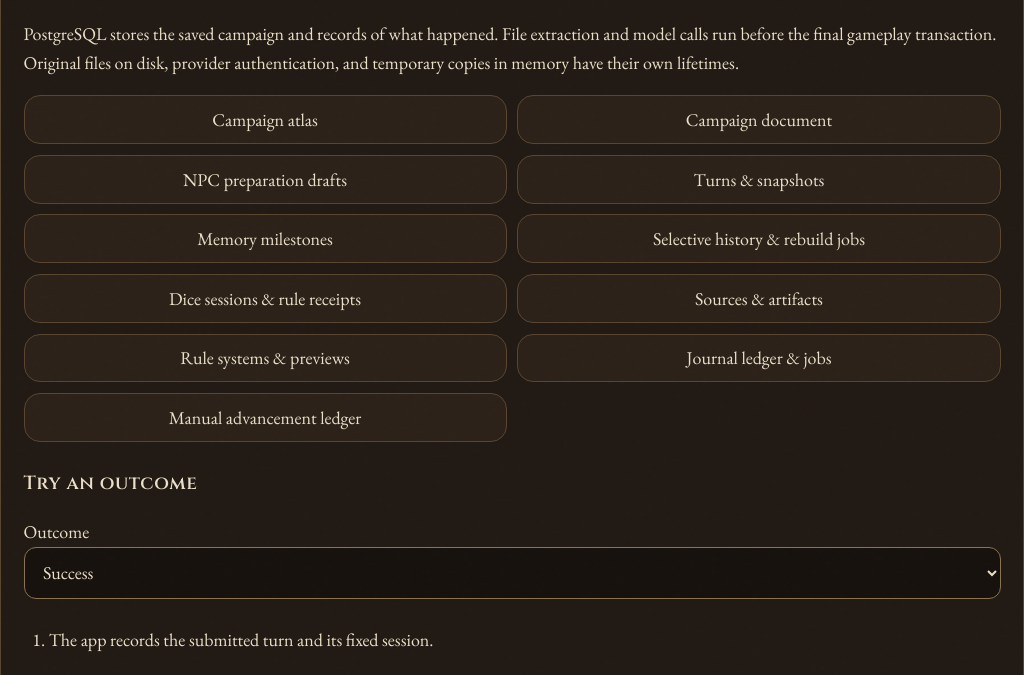
distinguishes surviving audit from state changes and models an undo conflict
Select "Invalid response" in the dropdown labelled "Outcome": (512, 573) [24,547,1000,599]
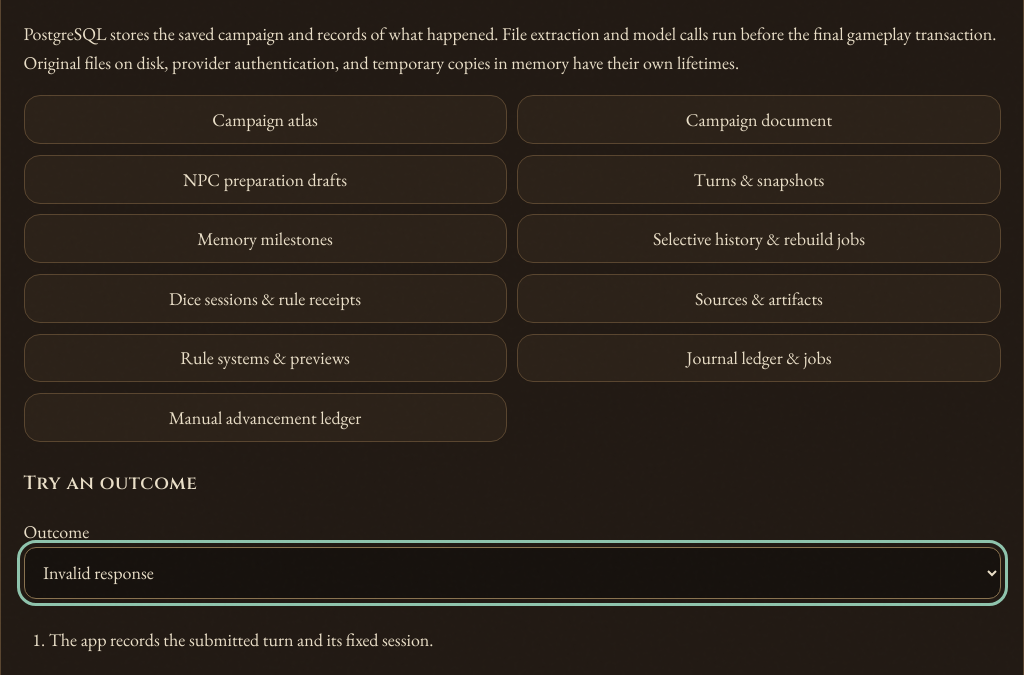
Select "Undo the completed turn" in the dropdown labelled "Outcome": (512, 573) [24,547,1000,599]
(page scrolled)
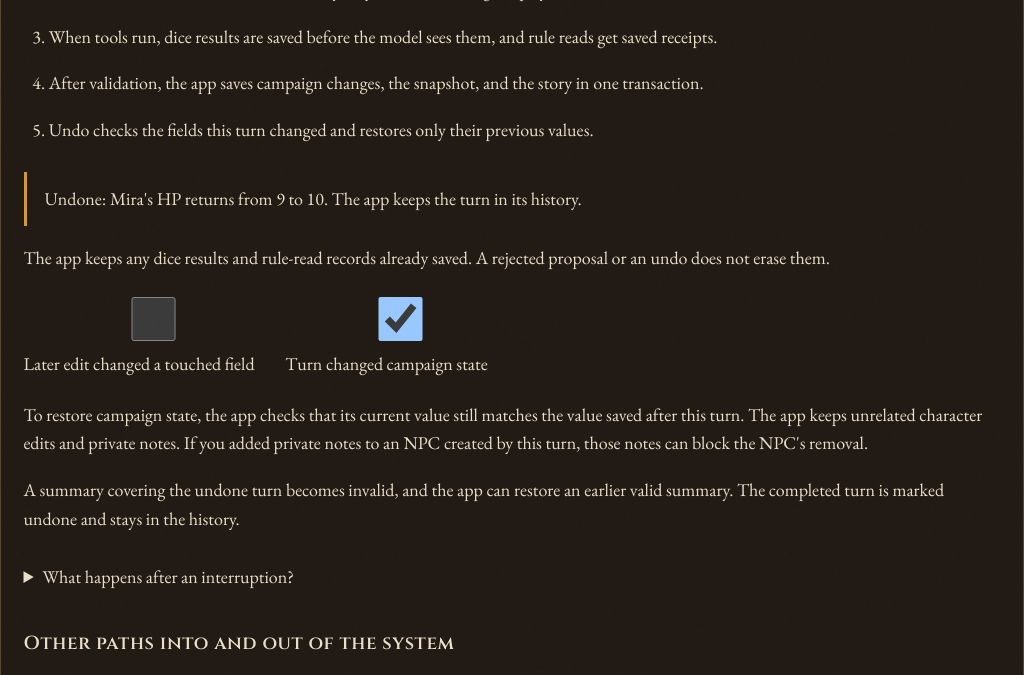
Click the checkbox labelled "Later edit changed a touched field": (153, 319) [28,297,278,341]
(page scrolled)
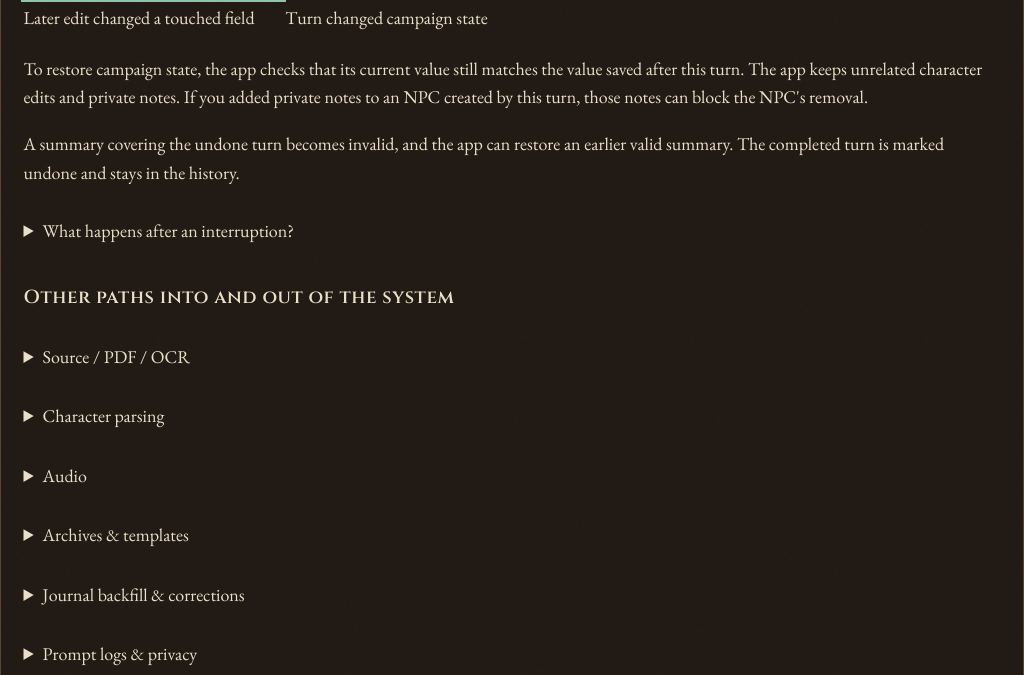
Click the heading "Audio": (65, 475) [43,464,87,487]
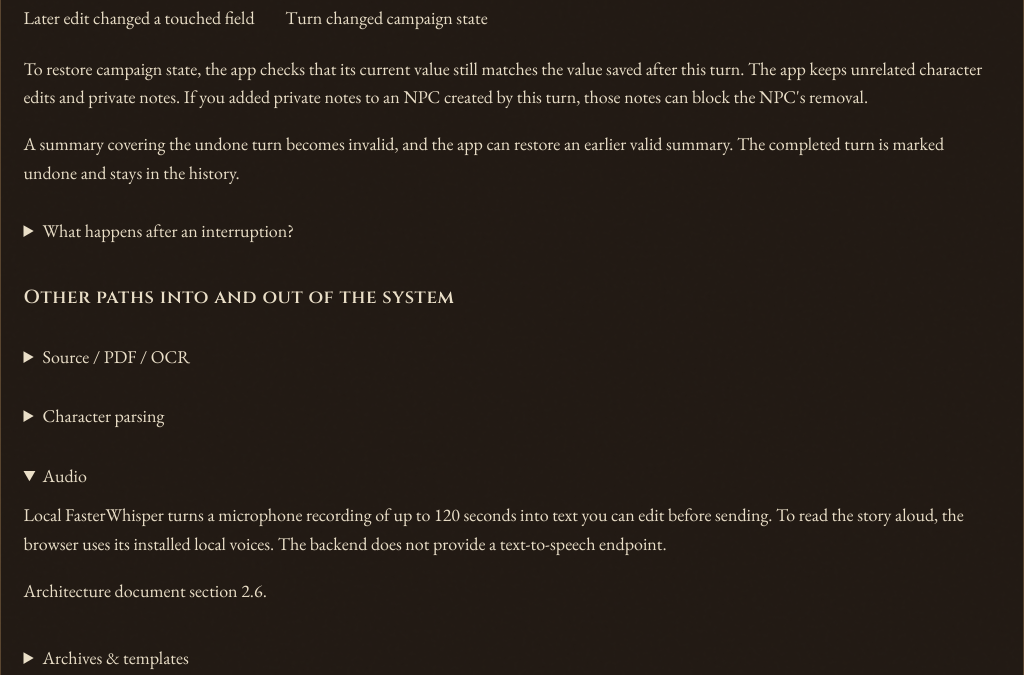
Check: the text "Local FasterWhisper" is shown, box [24,504,964,555]
